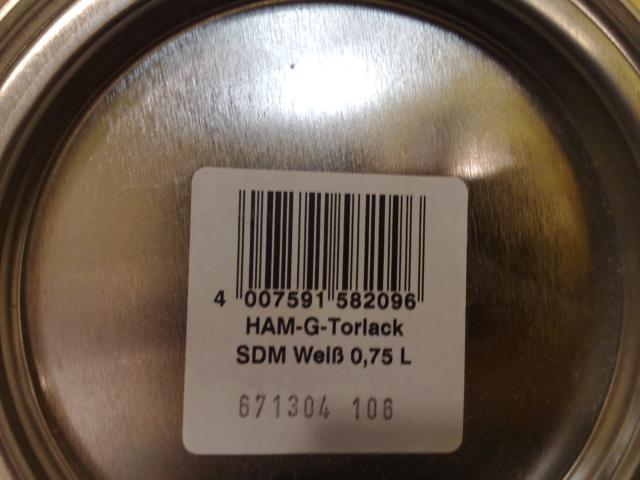Barkod: (232, 190, 430, 298)
